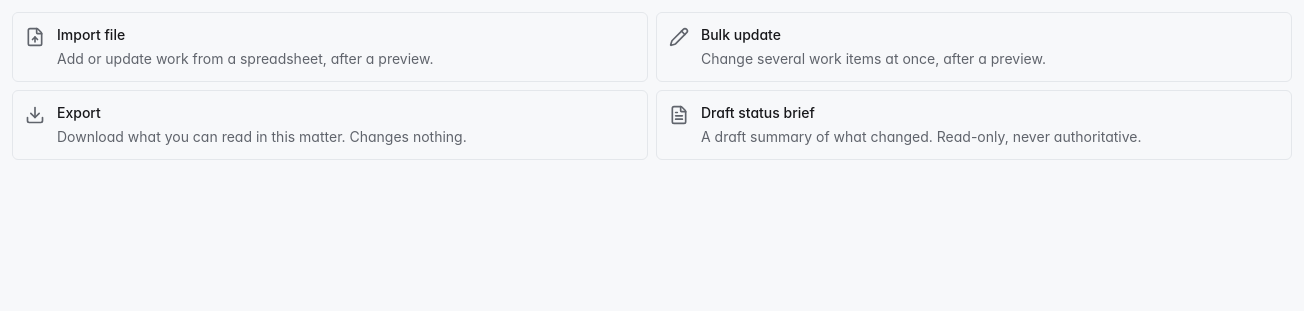
DataTransferPanel › says a task still needs attention while another one is showing
The width and height of the screenshot is (1304, 311).
Check: the element named "Import draft" is shown, box [12, 12, 1292, 160]
Click the button "Export" at (330, 125), box [12, 90, 648, 160]
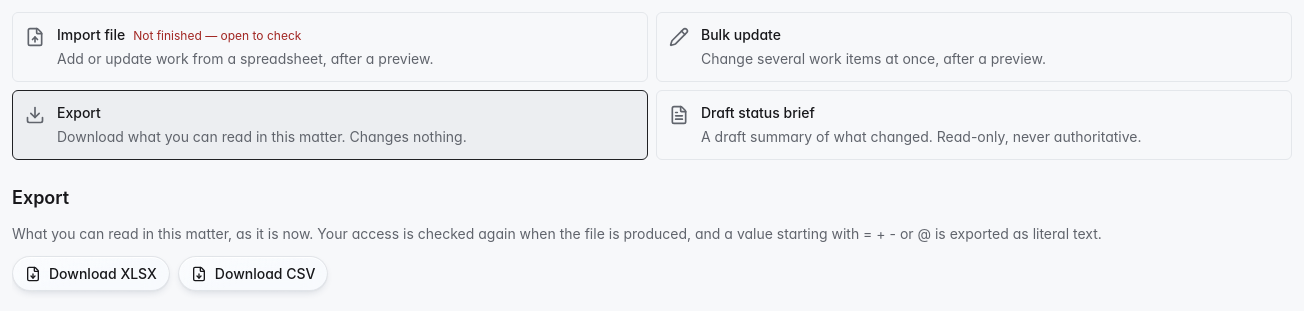
Check: the button that starts with "Import file" is shown, box [12, 12, 648, 82]
